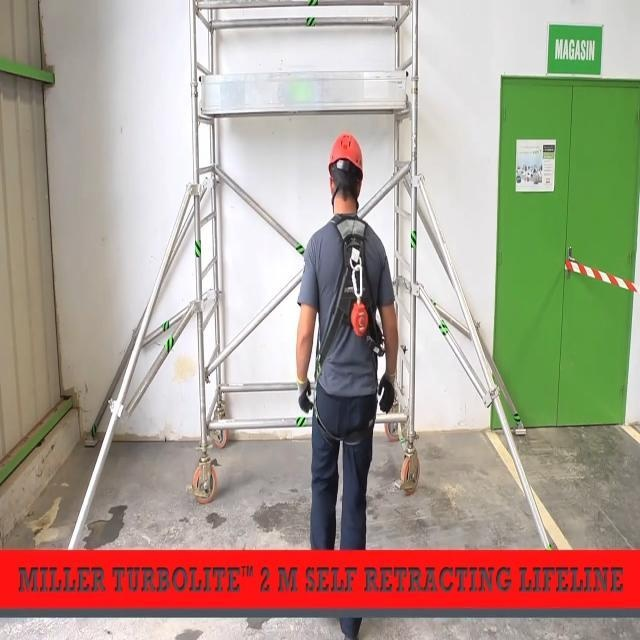Arnes_seguridad: (306, 219, 385, 451)
